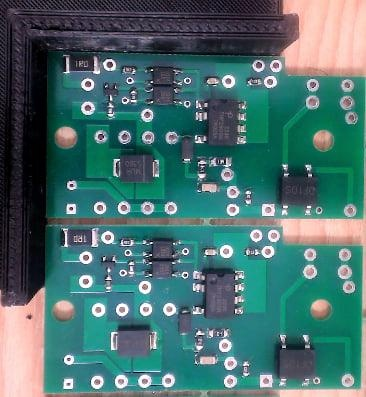chip-capacitor: (194, 353, 218, 365), (196, 182, 221, 193), (204, 76, 221, 86), (203, 247, 218, 256)
chip-resistor: (59, 226, 99, 249), (62, 54, 102, 75), (206, 326, 231, 338), (196, 156, 208, 180), (208, 156, 233, 167), (194, 327, 205, 352), (243, 187, 253, 206), (244, 246, 260, 257), (127, 259, 136, 277), (247, 76, 262, 86), (120, 237, 135, 247), (121, 65, 137, 74), (104, 274, 113, 290), (242, 359, 250, 377), (107, 102, 115, 119), (130, 87, 138, 104)
diode: (112, 152, 161, 184), (109, 329, 158, 358), (177, 306, 191, 336), (180, 134, 194, 164)
ic: (192, 269, 245, 319), (195, 98, 248, 146), (278, 332, 317, 388), (279, 162, 317, 217), (142, 238, 182, 258), (144, 66, 183, 86), (142, 259, 181, 279), (144, 86, 183, 105)
transistor: (103, 81, 119, 103), (101, 254, 116, 274)
